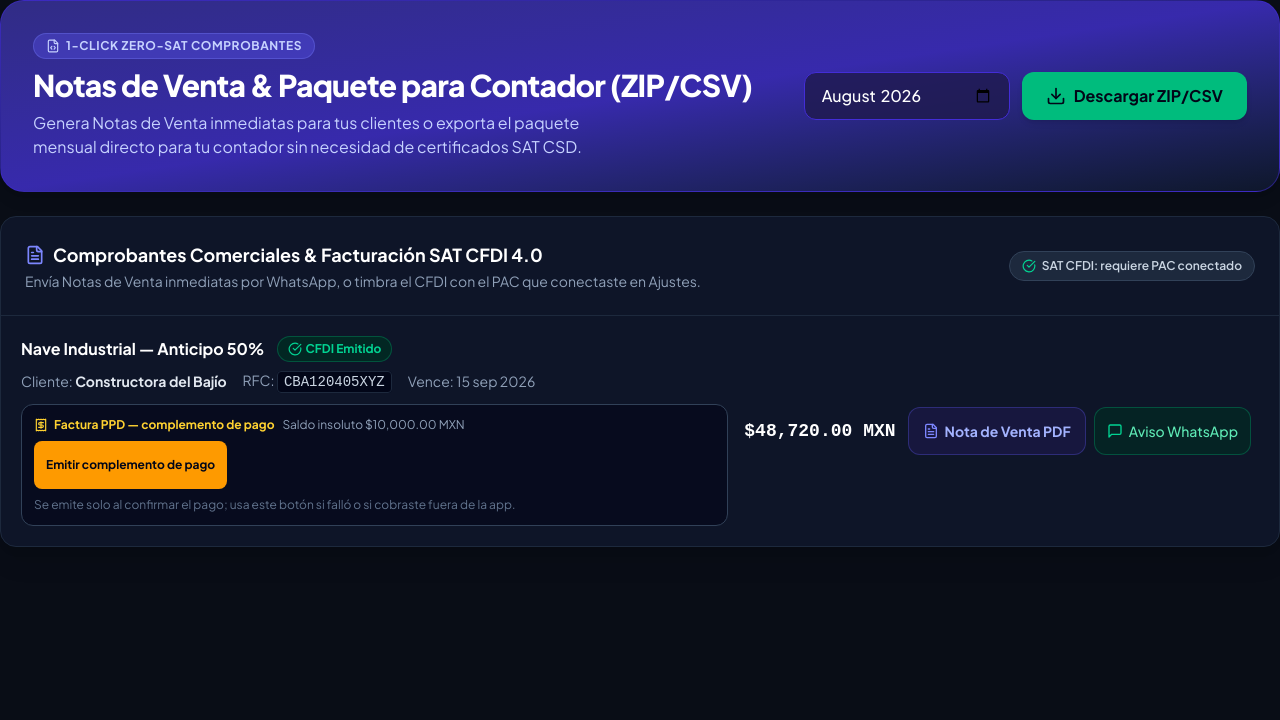
Test case: the manual complemento reports a surplus rather than dropping it (#272) › names the overpayment and what to do with it
Step 1. Click the button "Emitir complemento de pago" → point(131, 465), box [34,441,227,489]
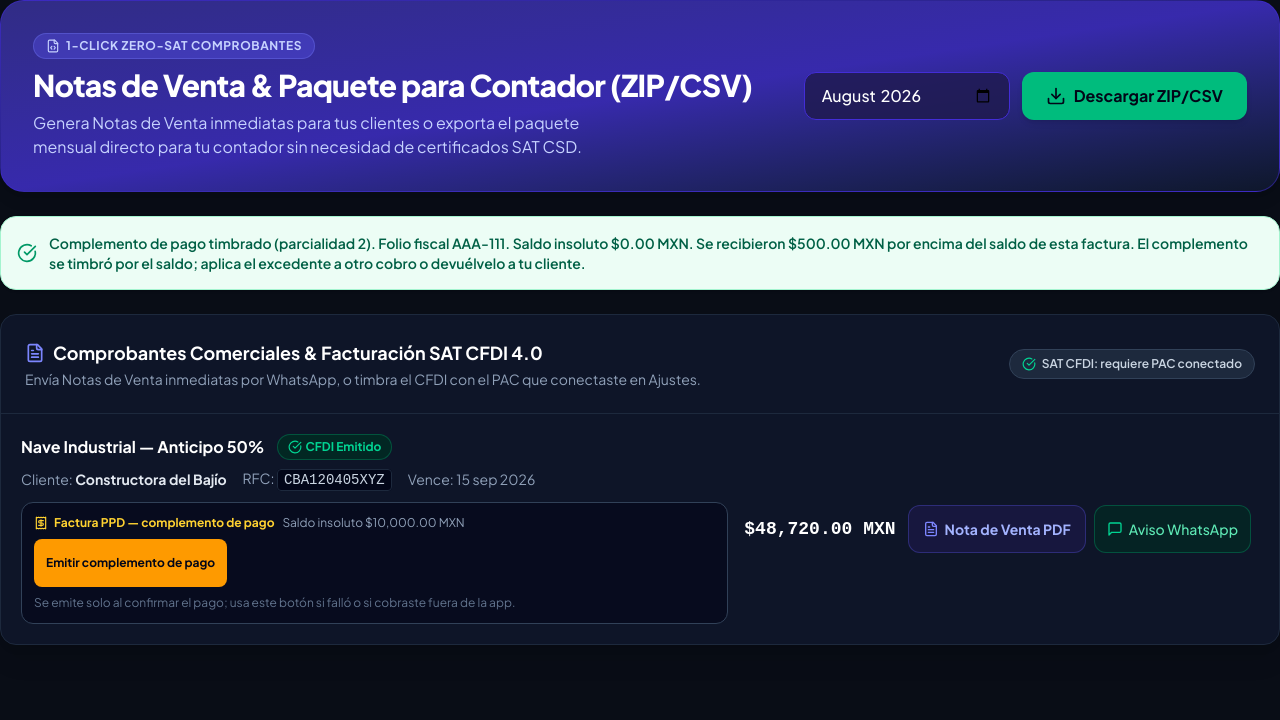
expect the text "aplica el excedente a otro cobro o devuélvelo" is shown: met, box [49,234,1248,272]
